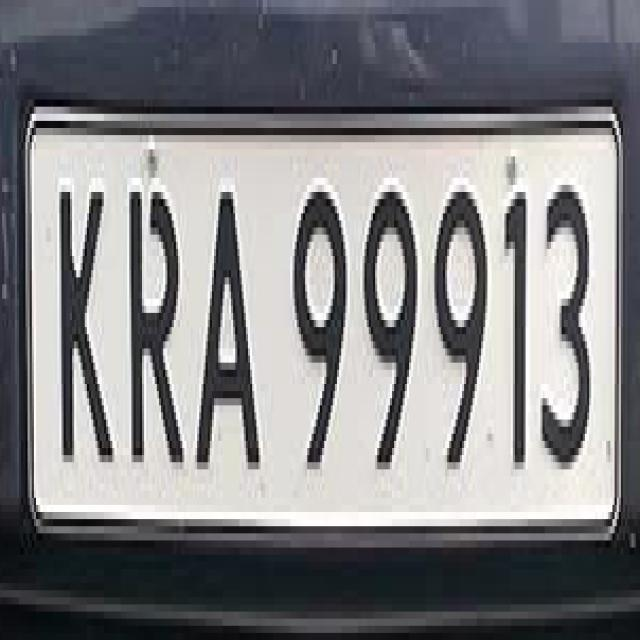Autre: (31, 120, 611, 509)
